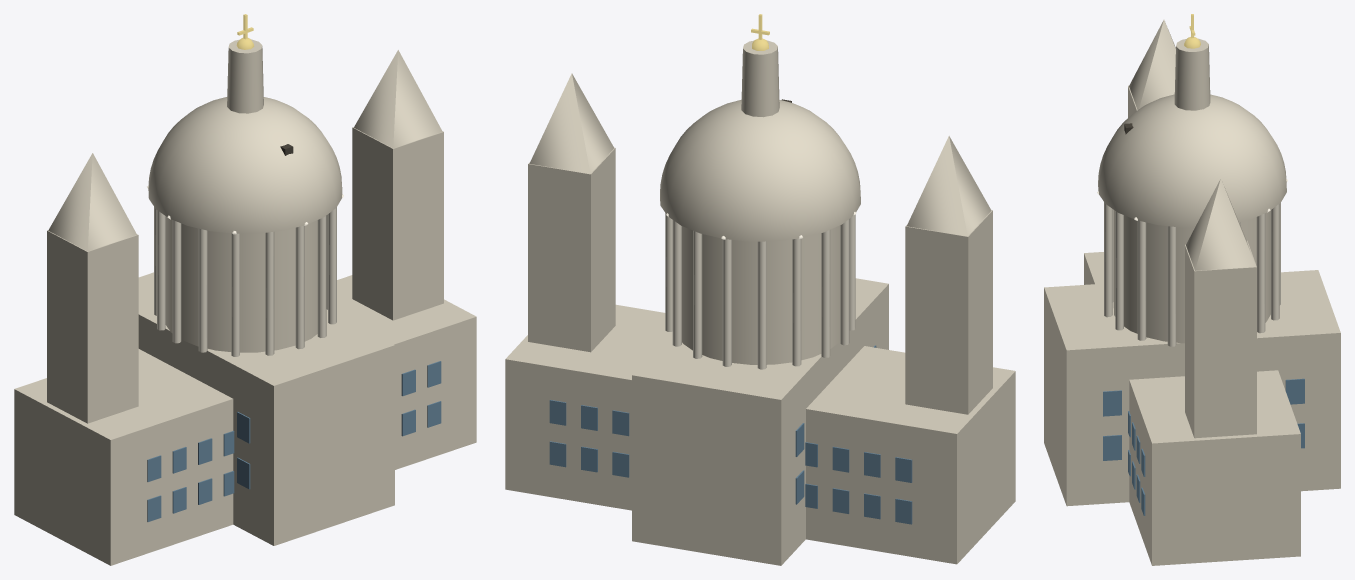
File: stpauls.glb
The picture shows the model from 3 angles, left to right: view 1: azimuth 30°, elevation 25°; view 2: azimuth 150°, elevation 25°; view 3: azimuth 270°, elevation 25°; orthographic projection. The views are drawn at different scales.
Visible parts, largest first — view 1: stpauls; view 2: stpauls; view 3: stpauls.
Boxes of the visible parts, x1,y1,x2,y2 form: stpauls: [14, 14, 476, 565]; stpauls: [505, 14, 1015, 565]; stpauls: [1044, 14, 1340, 565].
Bounding box in the file's own units: 1.07 × 1.13 × 0.6728.
